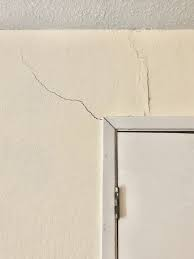crack: (21, 56, 104, 118)
